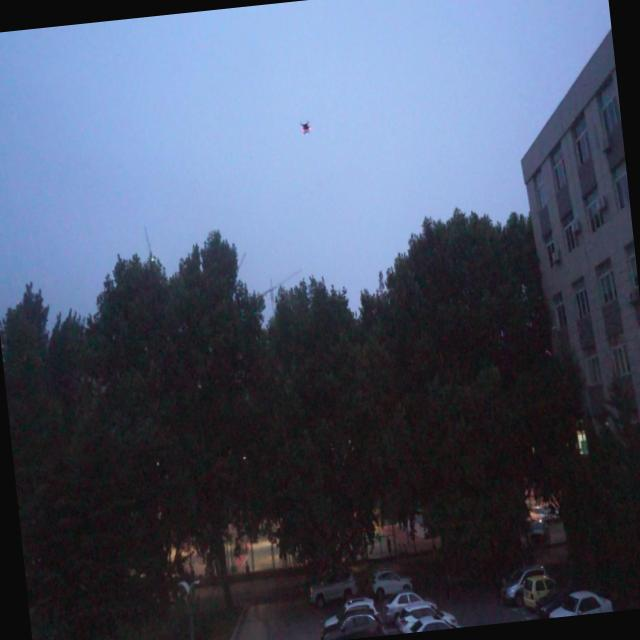drone: (296, 116, 314, 139)
